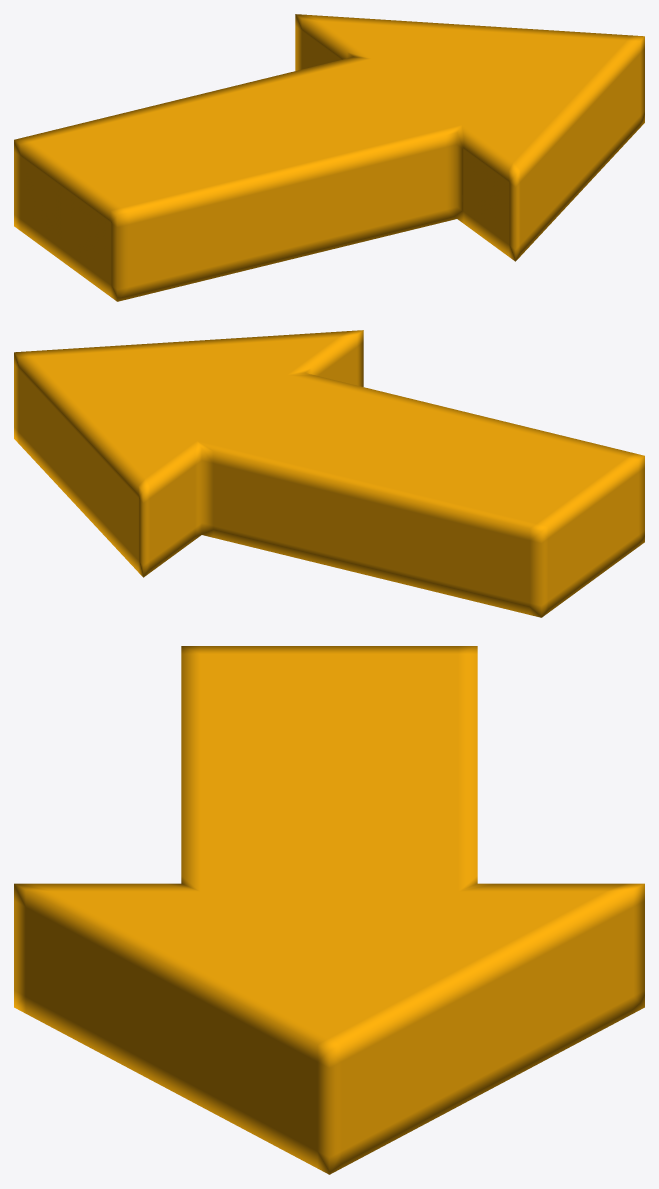
The picture shows the model from 3 angles, top to bottom: view 1: azimuth 30°, elevation 25°; view 2: azimuth 150°, elevation 25°; view 3: azimuth 270°, elevation 25°; orthographic projection. The views are drawn at different scales.
Parts seen in each view (by area): view 1: Box002; view 2: Box002; view 3: Box002.
Part boxes in pixels (x1,y1,x2,y2): Box002: [14, 14, 644, 301]; Box002: [14, 330, 644, 617]; Box002: [14, 646, 644, 1174].
Size of the model in its own units: 1000 by 143 by 659.
